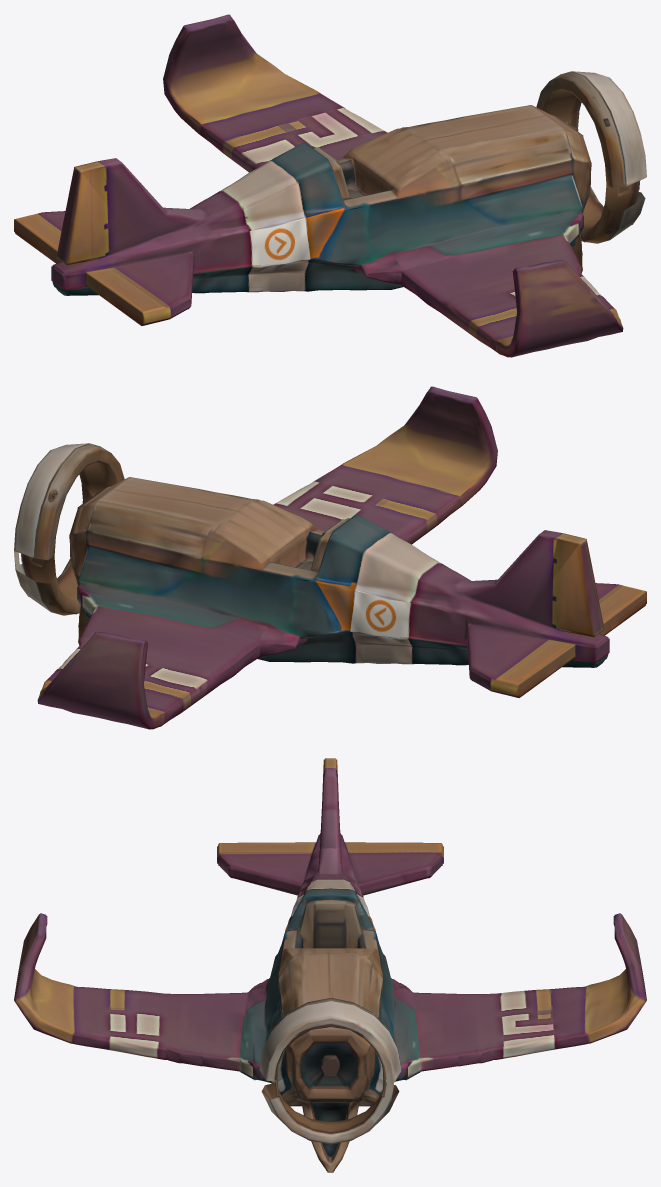
Rendered from plane_body.glb.
The picture shows the model from 3 angles, top to bottom: view 1: azimuth 30°, elevation 25°; view 2: azimuth 150°, elevation 25°; view 3: azimuth 270°, elevation 25°; orthographic projection. The views are drawn at different scales.
Parts seen in each view (by area): view 1: body; view 2: body; view 3: body.
Part boxes in pixels (x1,y1,x2,y2): body: [14, 14, 646, 357]; body: [14, 386, 646, 729]; body: [14, 758, 646, 1172].
Size of the model in its own units: 0.8767 by 0.3523 by 1.
Materials: 1 (1 with a texture image).
